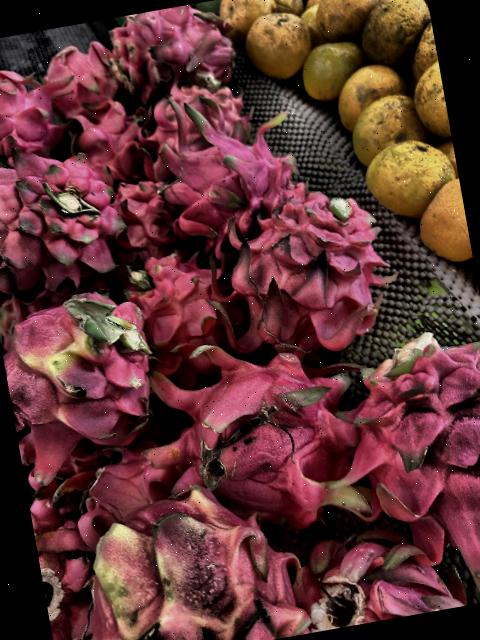buah-naga-belum-matang: (37, 482, 316, 640), (0, 275, 163, 474)
buah-naga-matang: (131, 322, 368, 534), (349, 327, 480, 601), (222, 180, 391, 361), (154, 99, 314, 237), (0, 129, 130, 298), (113, 234, 243, 369), (112, 0, 243, 99), (66, 99, 172, 184), (146, 68, 248, 151), (0, 52, 72, 169), (108, 174, 192, 264), (35, 41, 110, 118)
